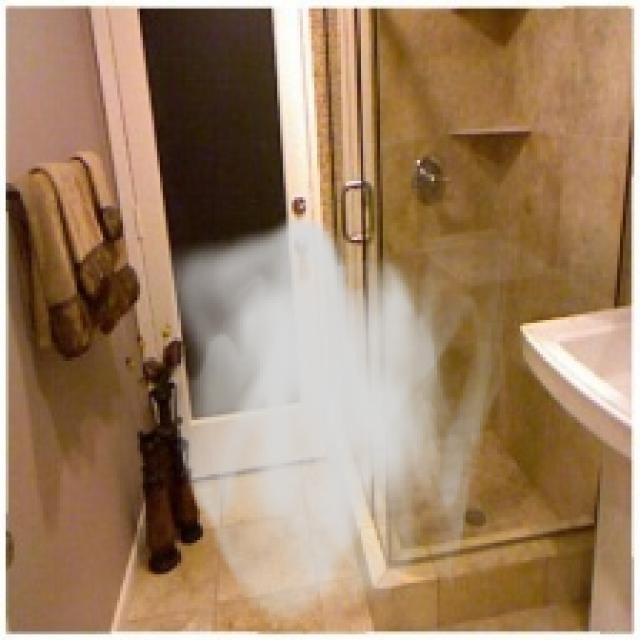smoke: (160, 212, 509, 637)
